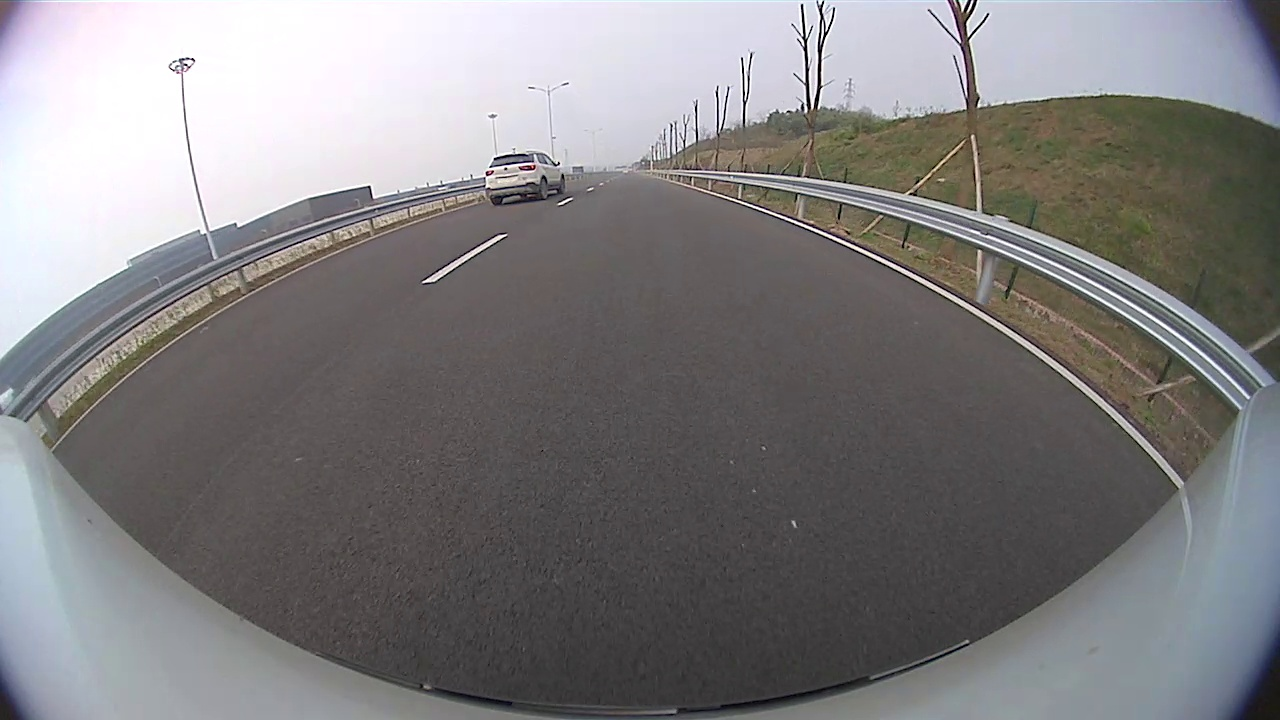car: (484, 149, 568, 208)
rear: (538, 177, 550, 201)
